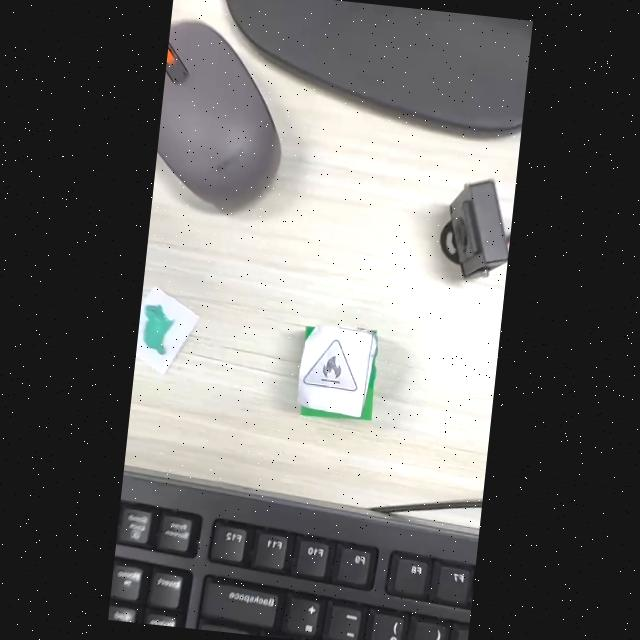Fire: (303, 339, 357, 390)
